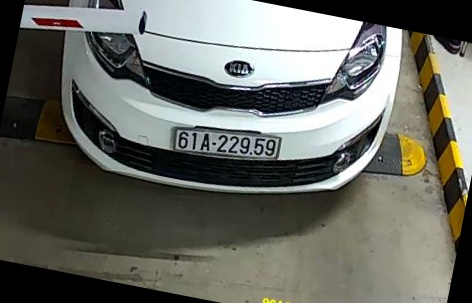plate: (174, 126, 281, 162)
